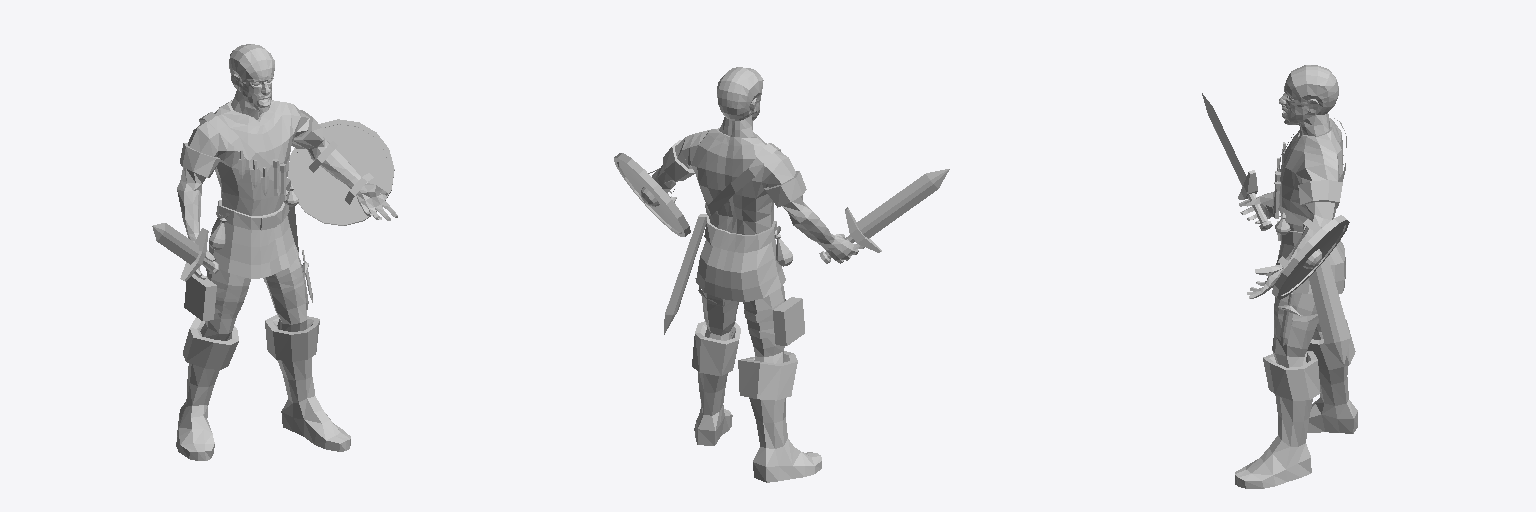
Rendered from char_anim_000316.obj.
3 renders of one model, left to right at view 1: azimuth 30°, elevation 25°; view 2: azimuth 150°, elevation 25°; view 3: azimuth 270°, elevation 25°, orthographic.
Visible parts, largest first — view 1: Body.001, Shield, Sword, Funda.001_LegBag, Bandolera; view 2: Body.001, Sword, Shield, Funda.001_LegBag, Sheat, Bandolera; view 3: Body.001, Shield, Sheat, Sword, LegKnife.
Boxes of the visible parts, x1=… form: Body.001: x1=176, y1=44, x2=397, y2=460; Shield: x1=288, y1=119, x2=394, y2=225; Sword: x1=152, y1=223, x2=218, y2=281; Funda.001_LegBag: x1=184, y1=274, x2=248, y2=320; Bandolera: x1=199, y1=112, x2=290, y2=190; Body.001: x1=652, y1=67, x2=864, y2=482; Sword: x1=819, y1=169, x2=949, y2=263; Shield: x1=614, y1=153, x2=690, y2=236; Funda.001_LegBag: x1=744, y1=297, x2=804, y2=345; Sheat: x1=664, y1=214, x2=706, y2=334; Bandolera: x1=705, y1=143, x2=780, y2=215; Body.001: x1=1235, y1=65, x2=1357, y2=488; Shield: x1=1272, y1=215, x2=1349, y2=299; Sheat: x1=1309, y1=257, x2=1350, y2=364; Sword: x1=1202, y1=93, x2=1272, y2=230; LegKnife: x1=1274, y1=293, x2=1318, y2=345.
Size of the model in its own units: 1.77 by 2.31 by 0.8406.